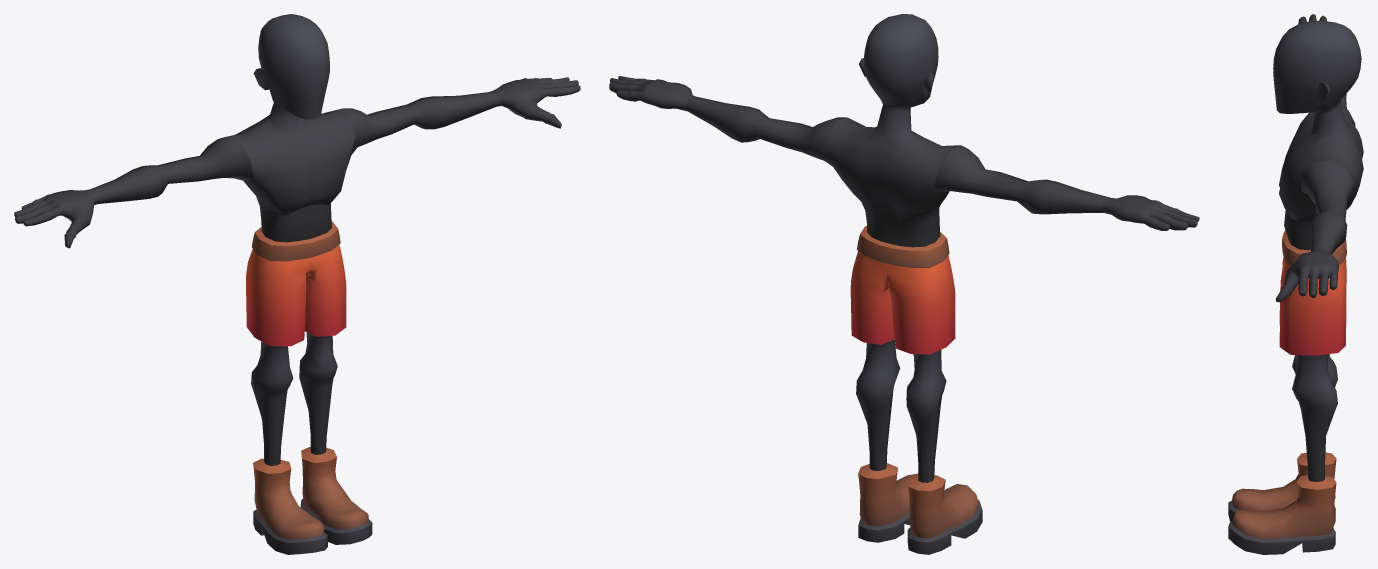
The model's file is Test Man Gradient Map.fbx.
3 views of the same model, side by side, from view 1: azimuth 30°, elevation 25°; view 2: azimuth 150°, elevation 25°; view 3: azimuth 270°, elevation 25° (orthographic). The views are drawn at different scales.
Visible parts, largest first — view 1: Man.008; view 2: Man.008; view 3: Man.008.
Boxes of the visible parts, bbox=[...] form: Man.008: bbox=[14, 14, 580, 554]; Man.008: bbox=[609, 14, 1199, 554]; Man.008: bbox=[1228, 14, 1363, 554].
Size of the model in its own units: 14.28 by 12.11 by 2.93.
Materials: 1 (1 with a texture image).
